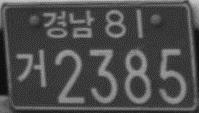1: (131, 9, 149, 38)
2: (54, 49, 84, 104)
3: (87, 48, 119, 104)
5: (157, 48, 187, 104)
8: (123, 48, 152, 104), (103, 9, 127, 38)
거: (15, 49, 46, 89)
경남_O: (42, 9, 95, 38)
